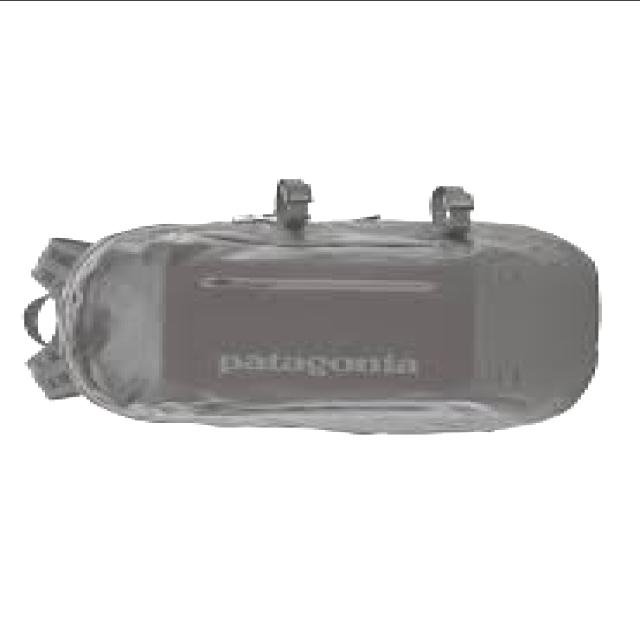backpack: (19, 179, 600, 437)
